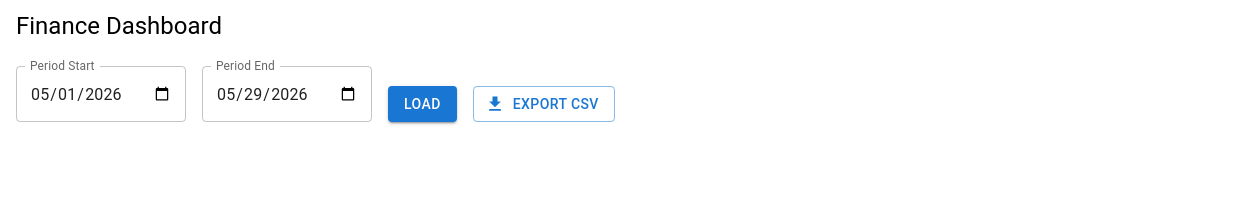
Test: FinanceDashboard › shows error when API fails
This screenshot has width=1249, height=211.
Click the button "Load" at (422, 104), box [388,86,457,122]
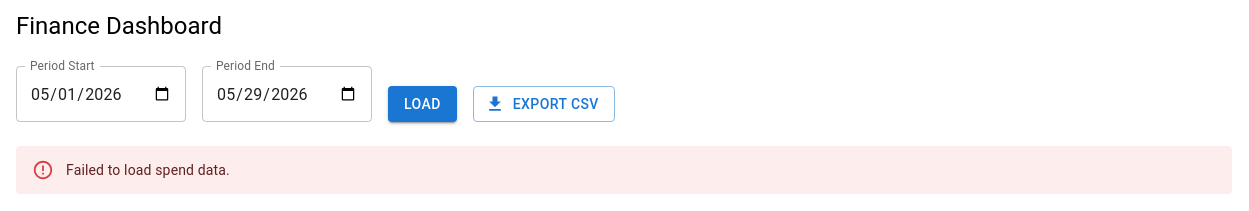
Now the text "Failed to load spend data." is shown, box [66,162,230,178]
